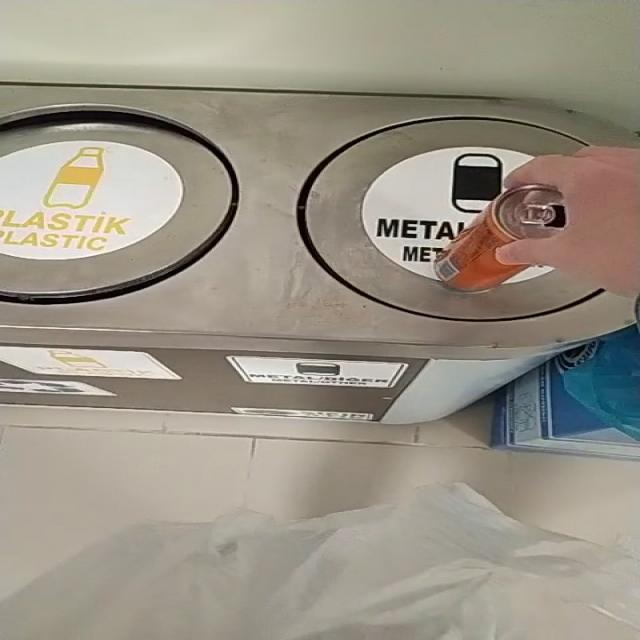Bin: (0, 84, 633, 424)
Metal: (435, 185, 565, 291)
